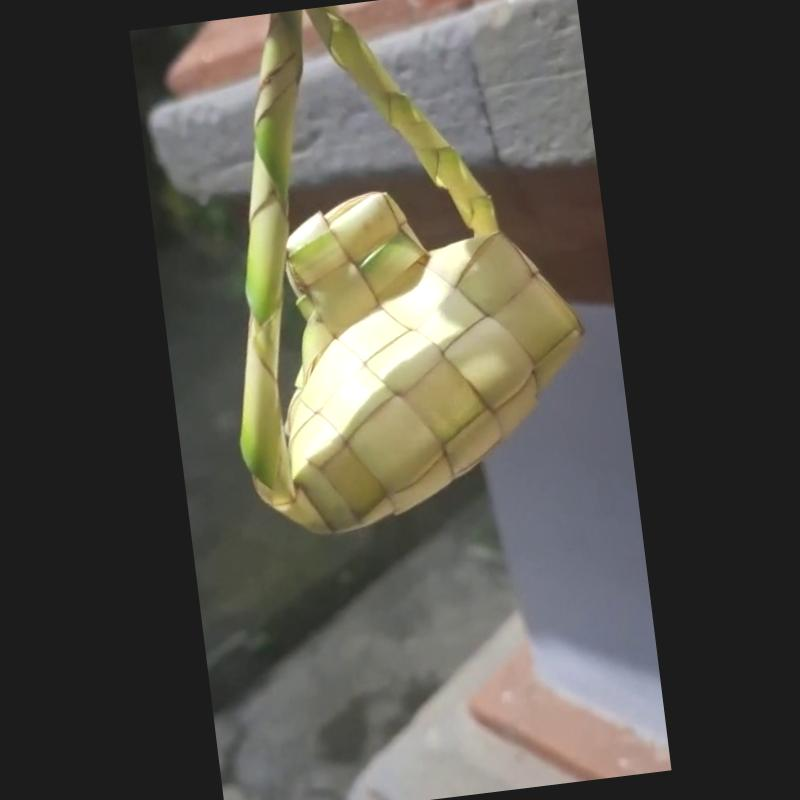Tipat Gong: (236, 5, 591, 545)
